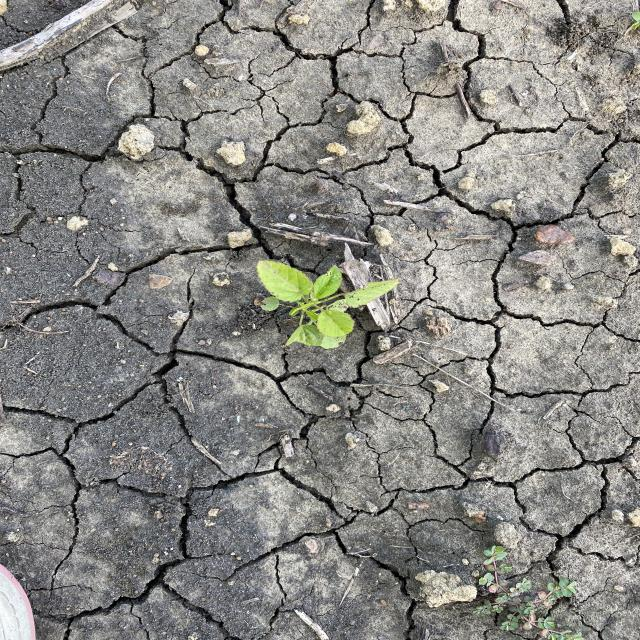PricklySida: (256, 258, 404, 352)
SpottedSpurge: (460, 544, 583, 640)
